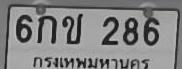2: (100, 16, 118, 44)
6: (15, 13, 31, 42), (142, 16, 158, 44)
8: (122, 16, 137, 44)
A01: (36, 14, 56, 43)
A10: (61, 12, 82, 44)
BKK: (30, 55, 152, 69)
